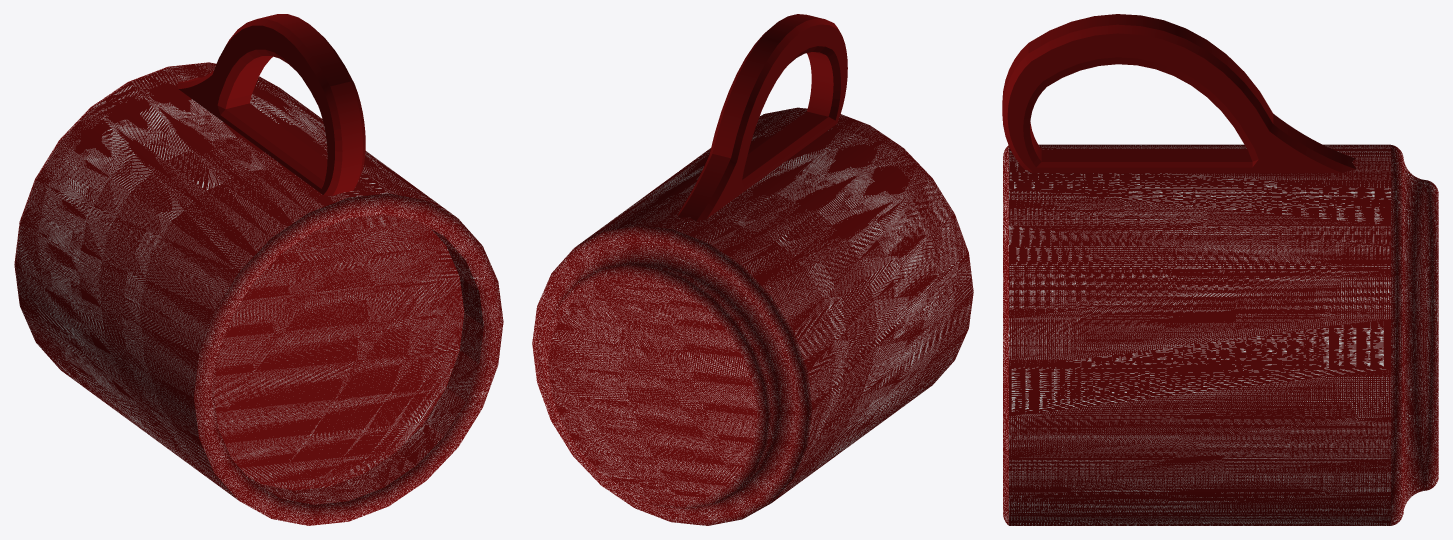
File: model_align.obj
3 views of the same model, side by side, from view 1: azimuth 30°, elevation 25°; view 2: azimuth 150°, elevation 25°; view 3: azimuth 270°, elevation 25° (orthographic). The views are drawn at different scales.
Parts seen in each view (by area): view 1: mesh1_mesh1-geometry, mesh2_mesh2-geometry; view 2: mesh1_mesh1-geometry, mesh2_mesh2-geometry; view 3: mesh1_mesh1-geometry, mesh2_mesh2-geometry.
Boxes of the visible parts, x1=… form: mesh1_mesh1-geometry: x1=14, y1=62, x2=503, y2=525; mesh2_mesh2-geometry: x1=177, y1=14, x2=365, y2=195; mesh1_mesh1-geometry: x1=532, y1=107, x2=973, y2=525; mesh2_mesh2-geometry: x1=677, y1=14, x2=847, y2=221; mesh1_mesh1-geometry: x1=1003, y1=144, x2=1438, y2=525; mesh2_mesh2-geometry: x1=1002, y1=14, x2=1356, y2=172.
Size of the model in its own units: 0.0873 by 0.1233 by 0.0995.
